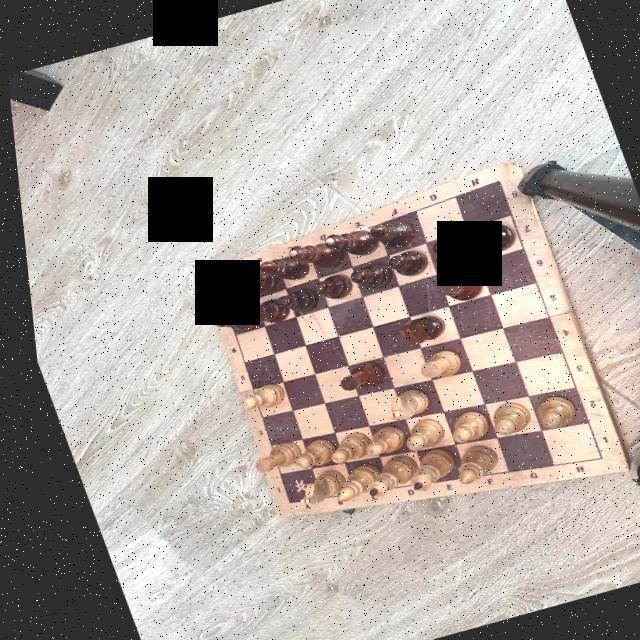chess-table-corners: (583, 451, 598, 463), (272, 495, 284, 506), (205, 275, 218, 285), (488, 176, 501, 184)
